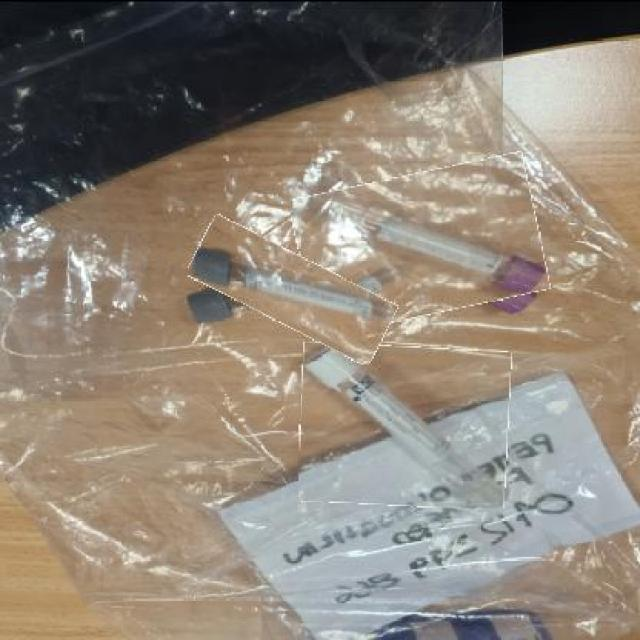Experimental-tube: (294, 161, 544, 324), (298, 342, 510, 506), (187, 233, 396, 344)
